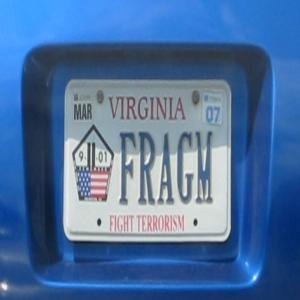Vehicle-registration-plate: (63, 78, 233, 244)
